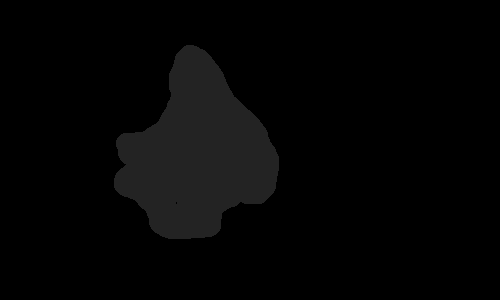toy: (122, 44, 277, 252)
